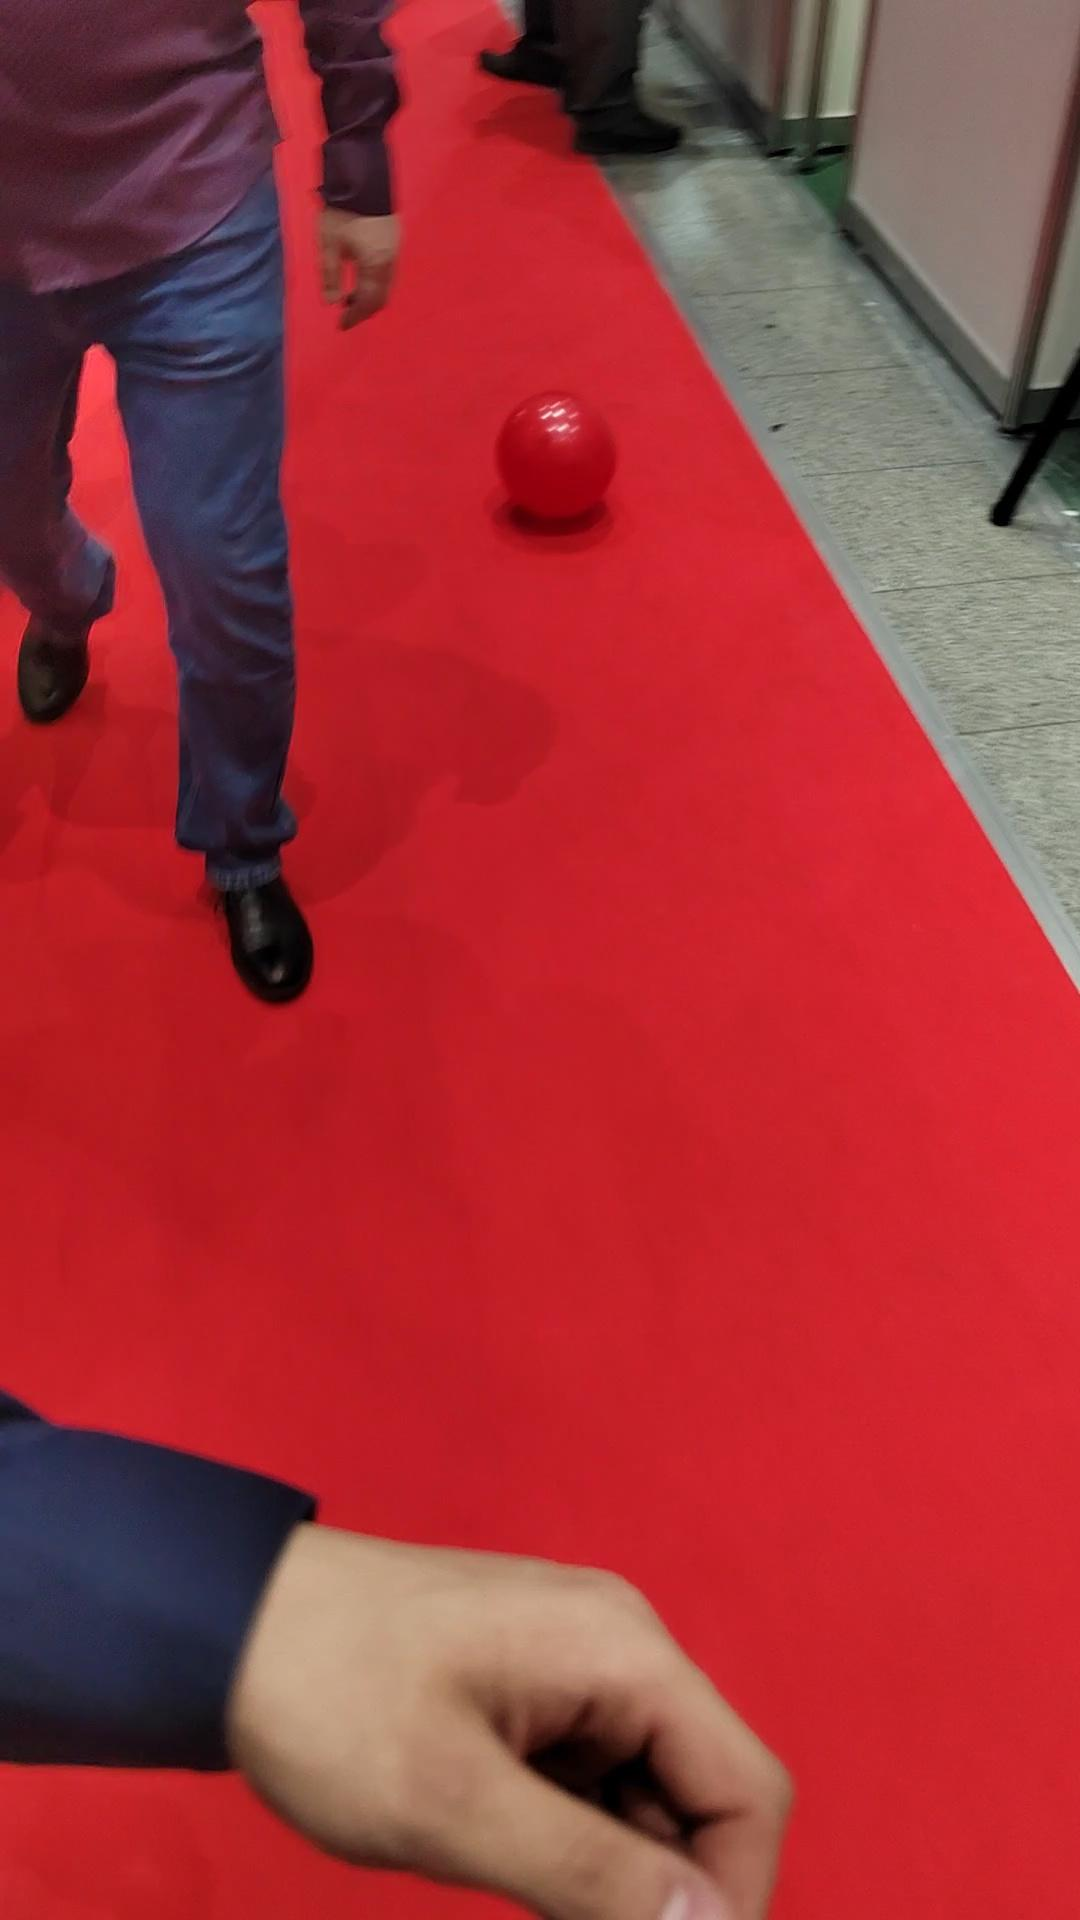red: (495, 390, 617, 521)
